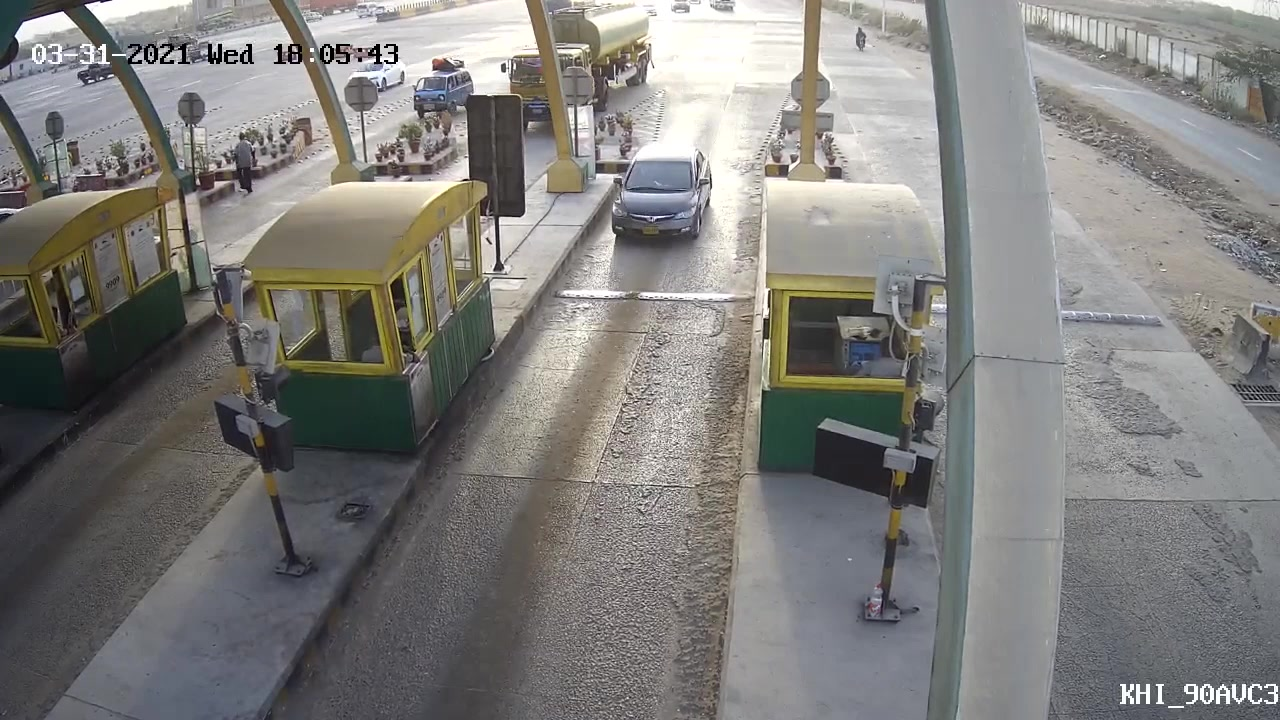F1: (603, 135, 723, 260)
